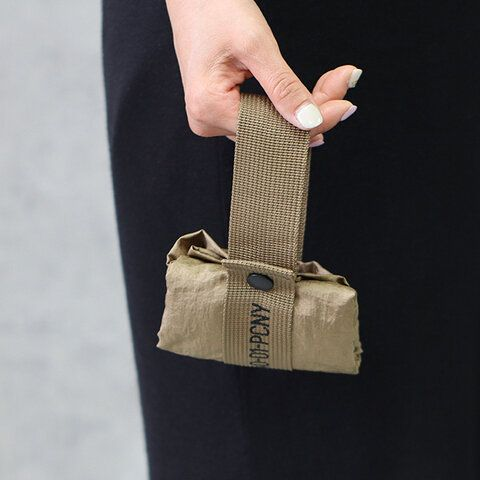nylon: (156, 91, 363, 374)
